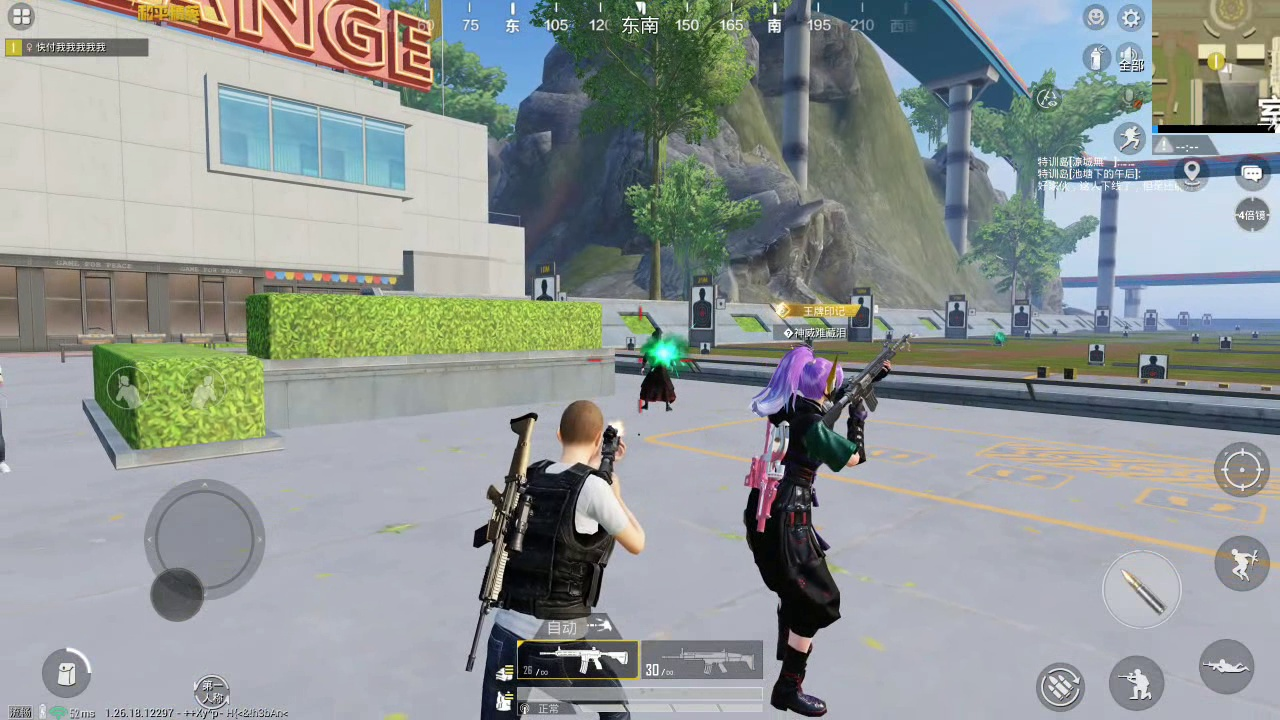enemy: (743, 343, 861, 720), (641, 330, 678, 418)
